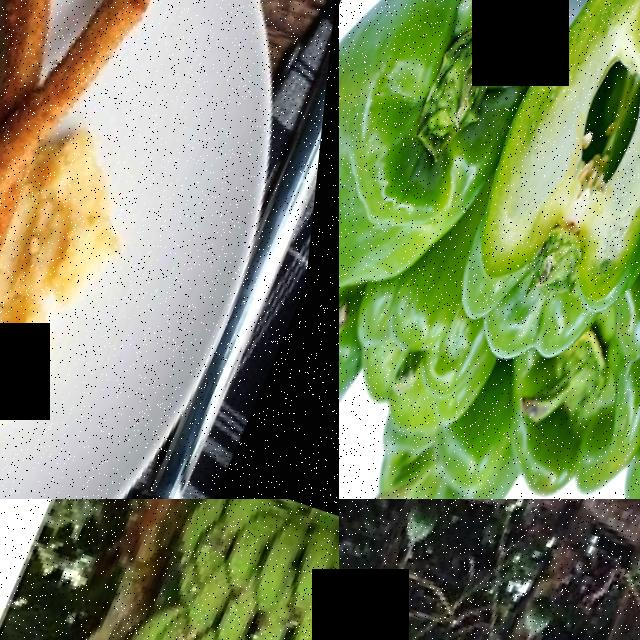banana: (0, 499, 339, 640)
bell pepper: (437, 0, 640, 359), (339, 0, 554, 282), (339, 245, 505, 439), (362, 414, 535, 499)
